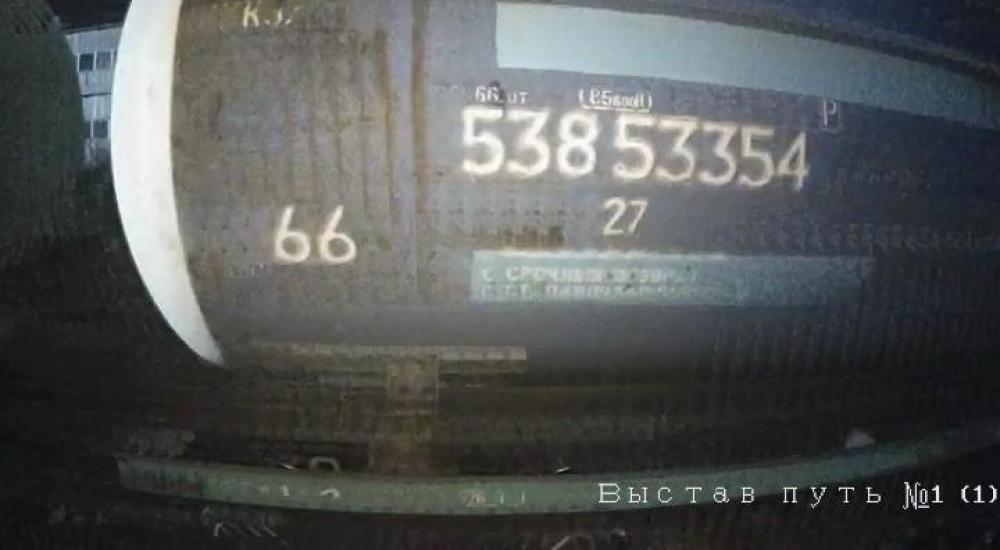Wagon-number: (459, 100, 815, 196)
